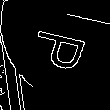P_E: (19, 30, 91, 80)
